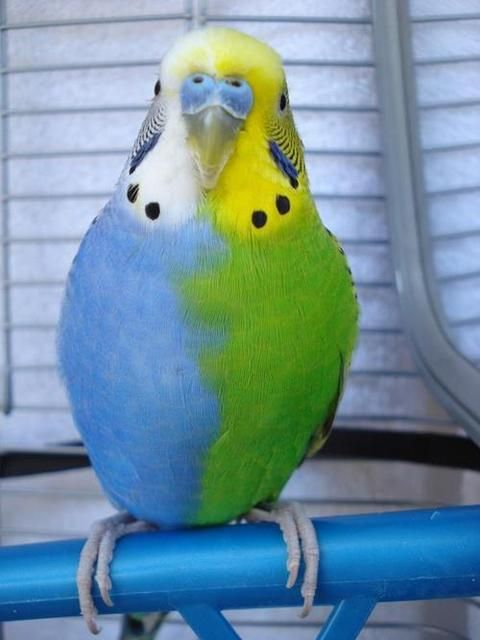budgie: (54, 21, 363, 634)
